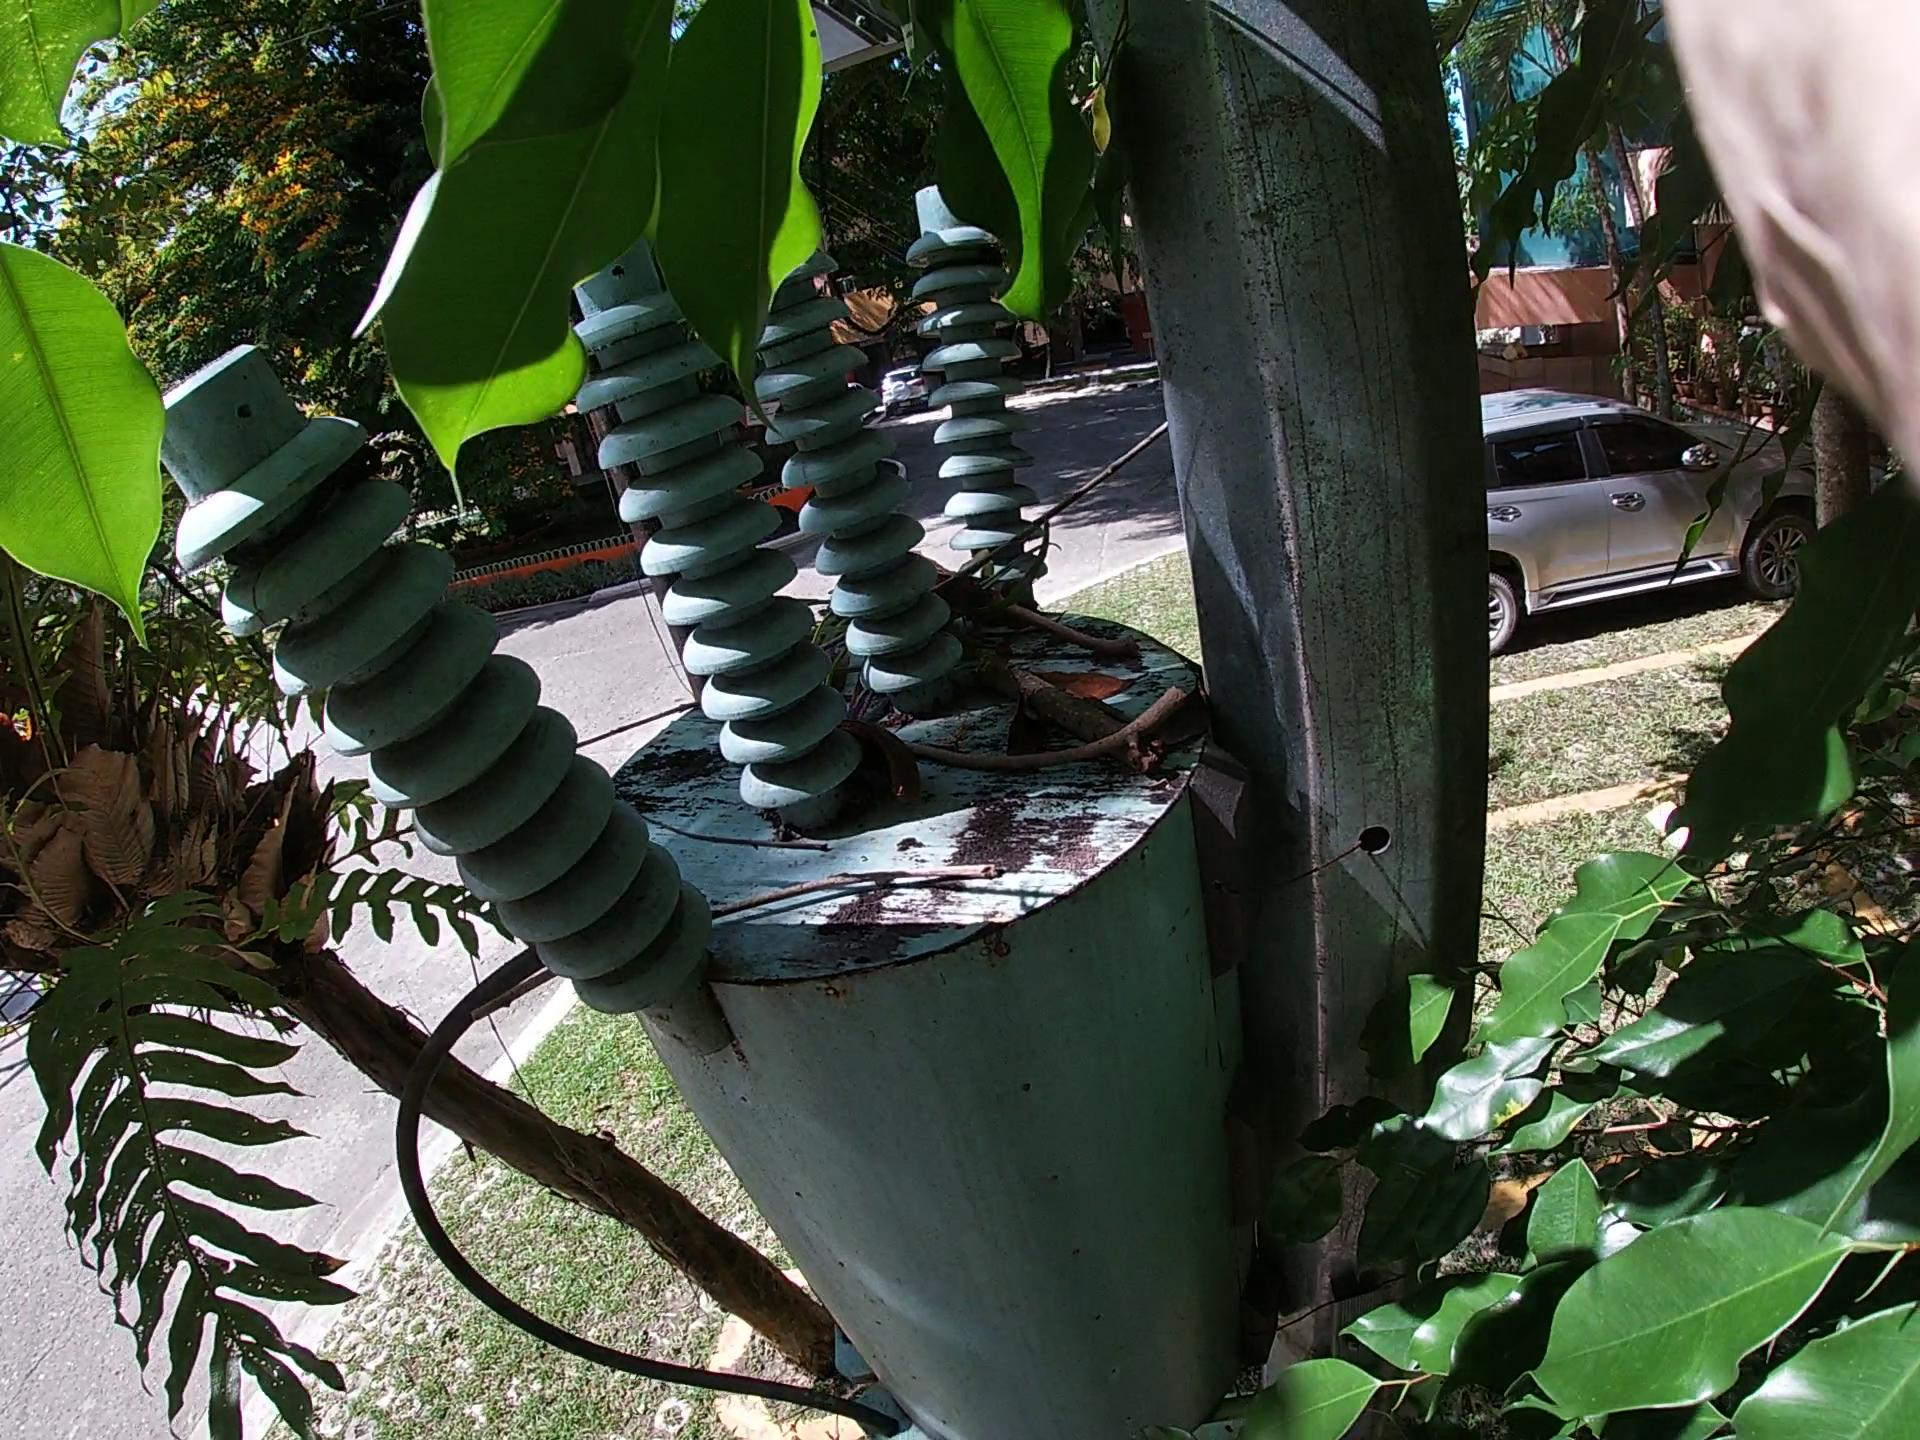branch with leaves: (883, 529, 1185, 817)
leaf: (989, 641, 1138, 740)
tree branch: (438, 844, 1042, 1054), (945, 303, 1312, 629), (930, 529, 1212, 729), (884, 722, 1209, 821)
